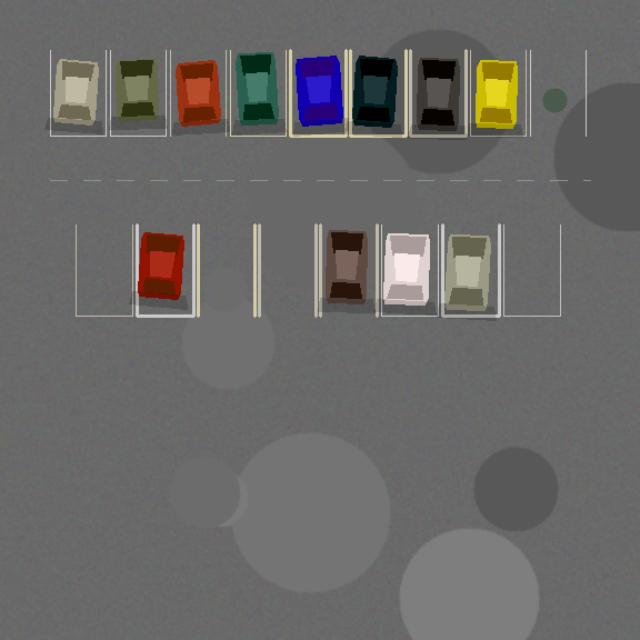space-empty: (259, 224, 316, 316), (503, 224, 560, 316), (76, 224, 132, 316), (198, 224, 254, 316), (530, 50, 586, 136)
space-occupied: (320, 224, 377, 316), (381, 224, 438, 316), (442, 224, 499, 316), (137, 224, 193, 316), (50, 50, 106, 136), (110, 50, 166, 136), (170, 50, 226, 136), (230, 50, 286, 136), (290, 50, 346, 136), (350, 50, 406, 136), (410, 50, 466, 136), (470, 50, 526, 136)
